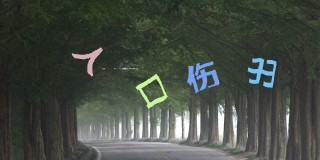人: (71, 46, 104, 76)
伤: (186, 60, 220, 93)
出: (246, 57, 277, 88)
口: (136, 73, 168, 109)
